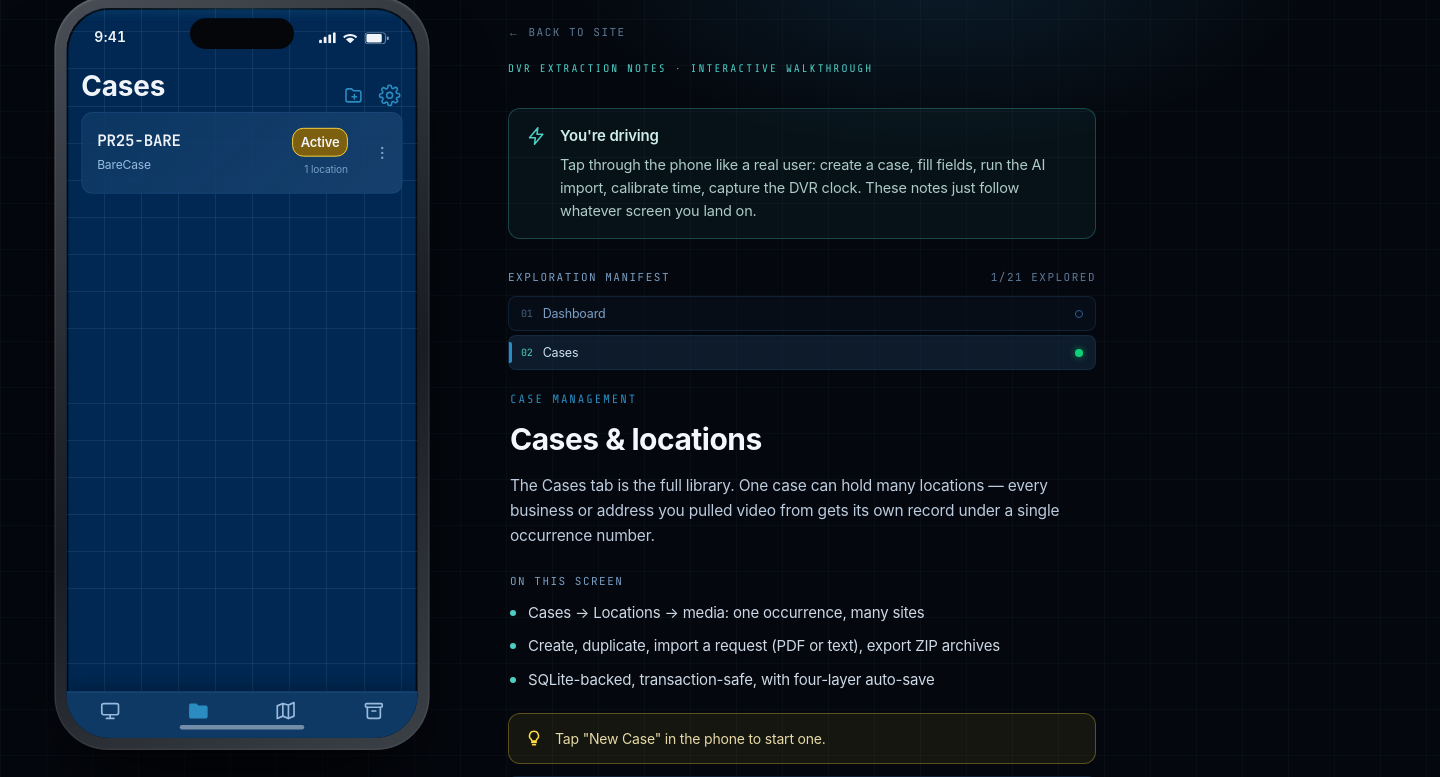
Test: DemoExperience — Export Map, empty case › exports an honest empty map for a case with no coordinates anywhere
What coordinates should you click on to do the following:
click the button named "Map"
I would click on:
 (286, 712)
Its box is [242, 698, 330, 727].
(page scrolled)
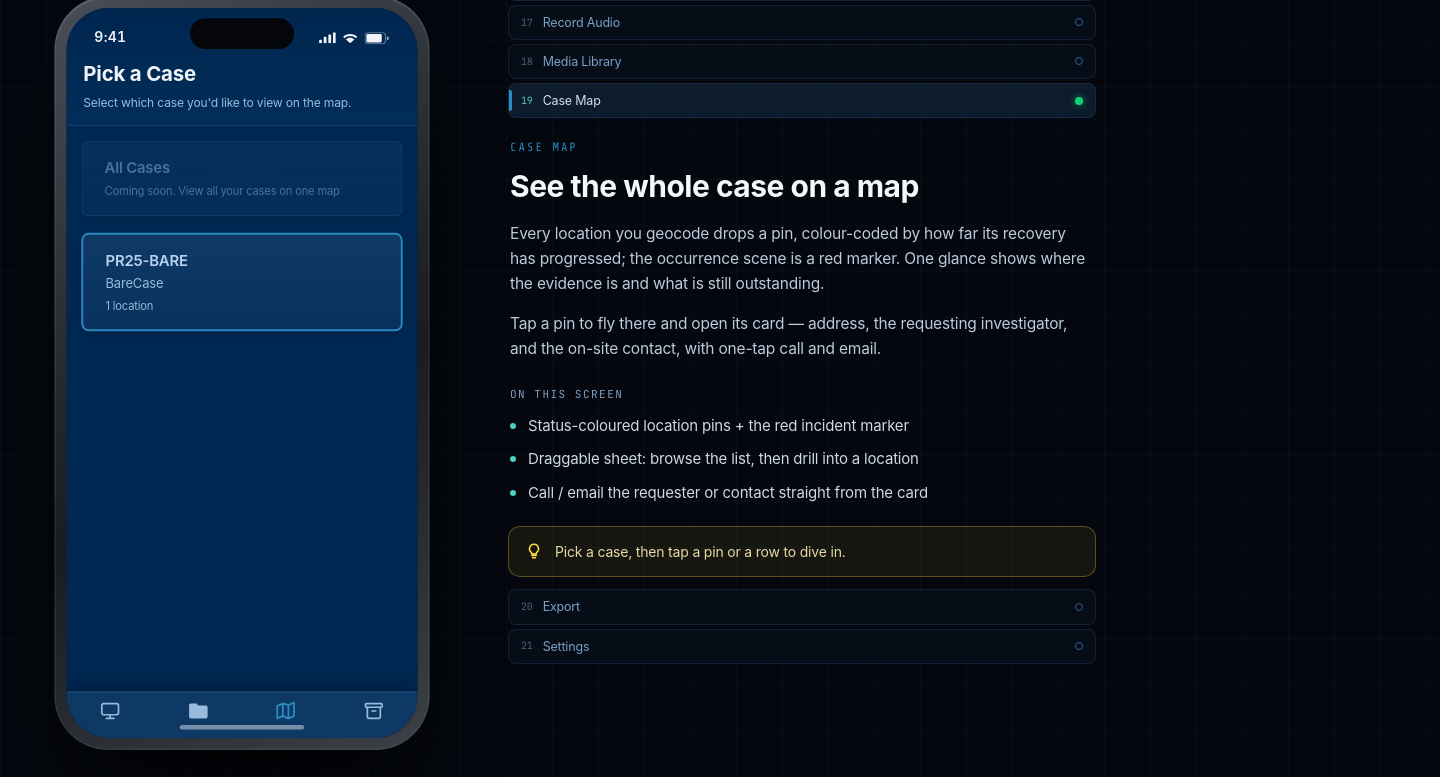
What coordinates should you click on to do the following:
click the text "BareCase"
I would click on:
 (134, 283)
Its box is [106, 275, 163, 291].
(page scrolled)
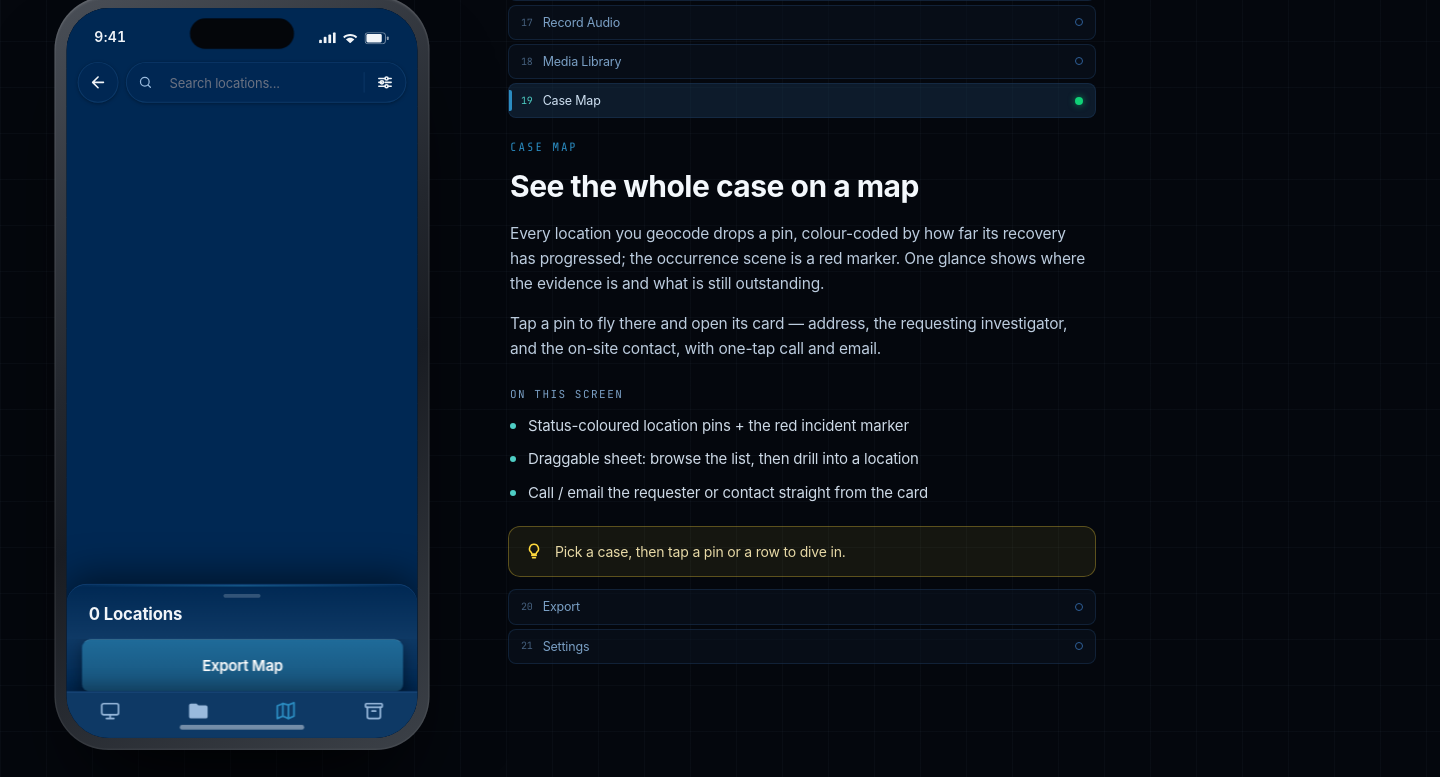
Expected: the button with test id "export-map-button" is enabled
What coordinates should you click on to do the following:
click the button with test id "export-map-button"
I would click on:
 (242, 665)
Its box is [81, 638, 403, 692].
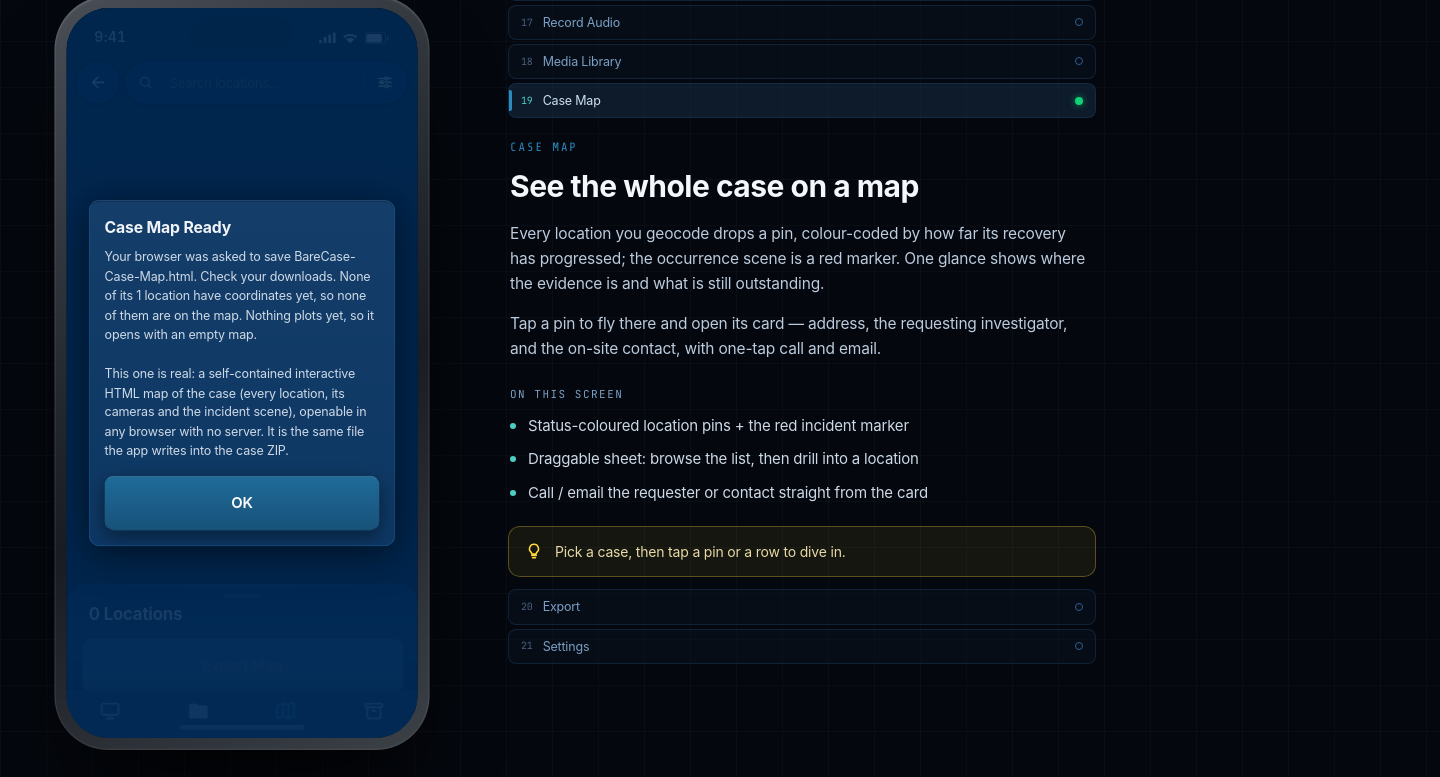
Expected: the dialog shows "None of its 1 location have coordinates yet, so none of them are on the map.", [105, 249, 374, 458]
Expected: the dialog shows "Nothing plots yet, so it opens with an empty map.", [105, 249, 374, 458]
